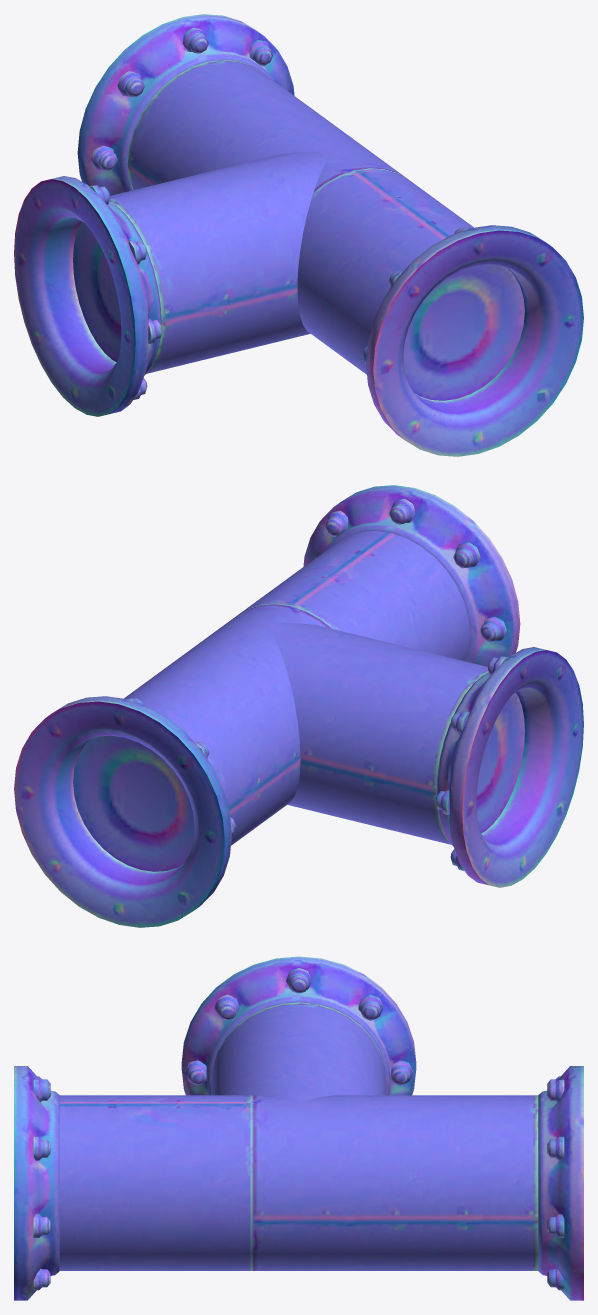
File: Pipe_D160_A_T_Junction_A.fbx
The picture shows the model from 3 angles, top to bottom: view 1: azimuth 30°, elevation 25°; view 2: azimuth 150°, elevation 25°; view 3: azimuth 270°, elevation 25°; orthographic projection. The views are drawn at different scales.
Parts seen in each view (by area): view 1: Geom_Pipe_D160_A_T_Junction_A_LOD00; view 2: Geom_Pipe_D160_A_T_Junction_A_LOD00; view 3: Geom_Pipe_D160_A_T_Junction_A_LOD00.
Boxes of the visible parts, <box> form: Geom_Pipe_D160_A_T_Junction_A_LOD00: <box>14,14,583,456</box>; Geom_Pipe_D160_A_T_Junction_A_LOD00: <box>14,485,583,927</box>; Geom_Pipe_D160_A_T_Junction_A_LOD00: <box>14,956,583,1300</box>.
Size of what is drawn, in the model's own units: 282 by 400 by 165.
